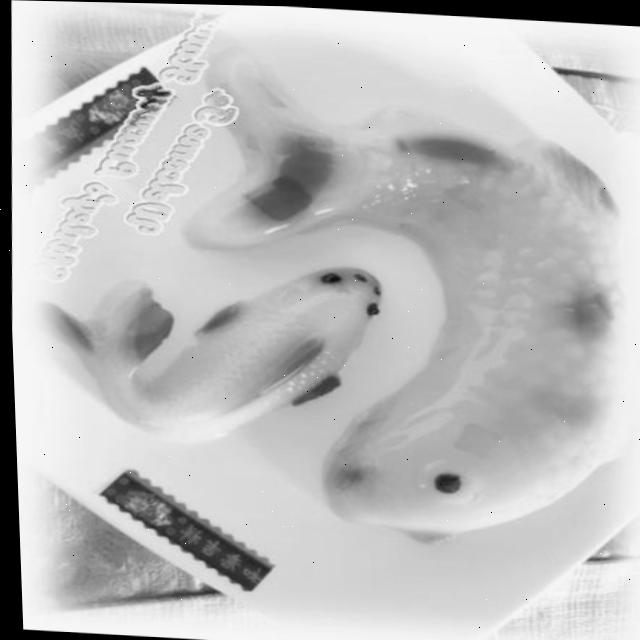蛋糕甜品: (0, 4, 640, 635)
